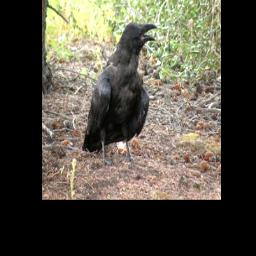Crow: (80, 21, 157, 168)
